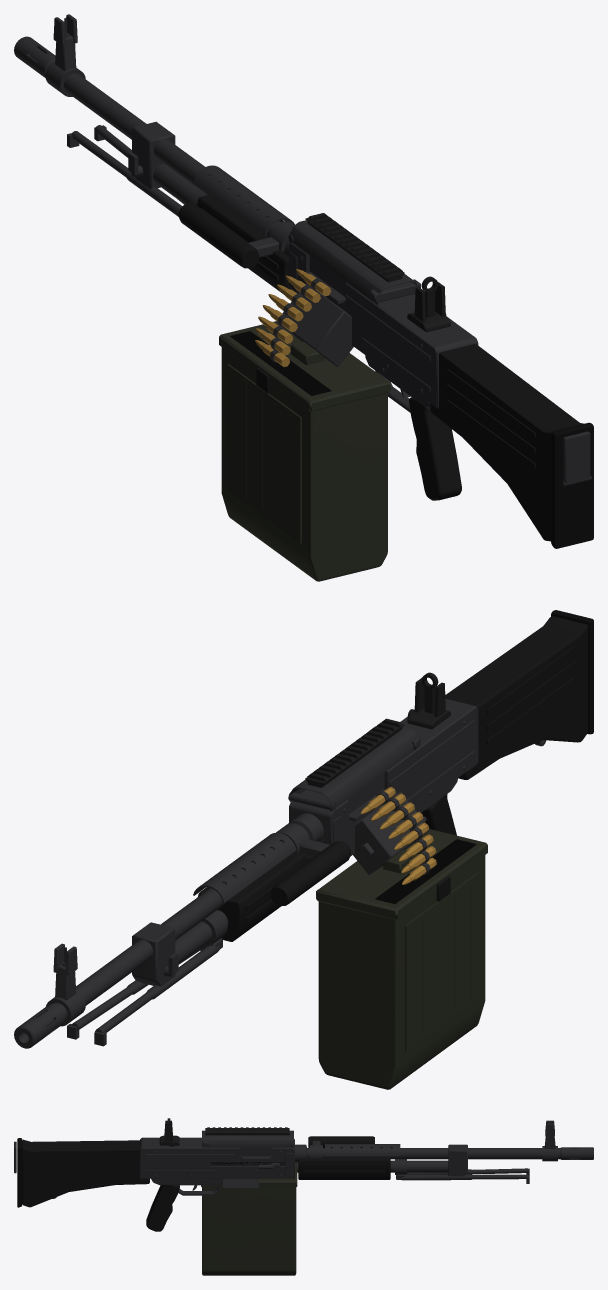
The picture shows the model from 3 angles, top to bottom: view 1: azimuth 30°, elevation 25°; view 2: azimuth 150°, elevation 25°; view 3: azimuth 270°, elevation 25°; orthographic projection. The views are drawn at different scales.
Parts seen in each view (by area): view 1: body, mag_ext, mag_fast, underbarrel_bipod, optic_iron, barrel_std; view 2: body, mag_ext, mag_fast, underbarrel_bipod, optic_iron, barrel_std; view 3: body, mag_fast, mag_ext, underbarrel_bipod, barrel_std, optic_iron.
Boxes of the visible parts, left/top/right/bottom form: body: left=45, top=14, right=593, bottom=548; mag_ext: left=219, top=321, right=390, bottom=581; mag_fast: left=221, top=348, right=387, bottom=523; underbarrel_bipod: left=67, top=125, right=206, bottom=216; optic_iron: left=407, top=276, right=450, bottom=332; barrel_std: left=14, top=36, right=55, bottom=77; body: left=46, top=610, right=593, bottom=1026; mag_ext: left=316, top=829, right=487, bottom=1089; mag_fast: left=318, top=855, right=485, bottom=1032; underbarrel_bipod: left=67, top=910, right=227, bottom=1046; optic_iron: left=407, top=672, right=450, bottom=729; barrel_std: left=14, top=1004, right=65, bottom=1048; body: left=14, top=1120, right=560, bottom=1231; mag_fast: left=202, top=1187, right=296, bottom=1243; mag_ext: left=201, top=1162, right=297, bottom=1275; underbarrel_bipod: left=395, top=1159, right=529, bottom=1183; barrel_std: left=560, top=1147, right=593, bottom=1159; optic_iron: left=159, top=1118, right=179, bottom=1146.
Bounding box in the file's own units: 0.1372 × 0.3219 × 1.05.
